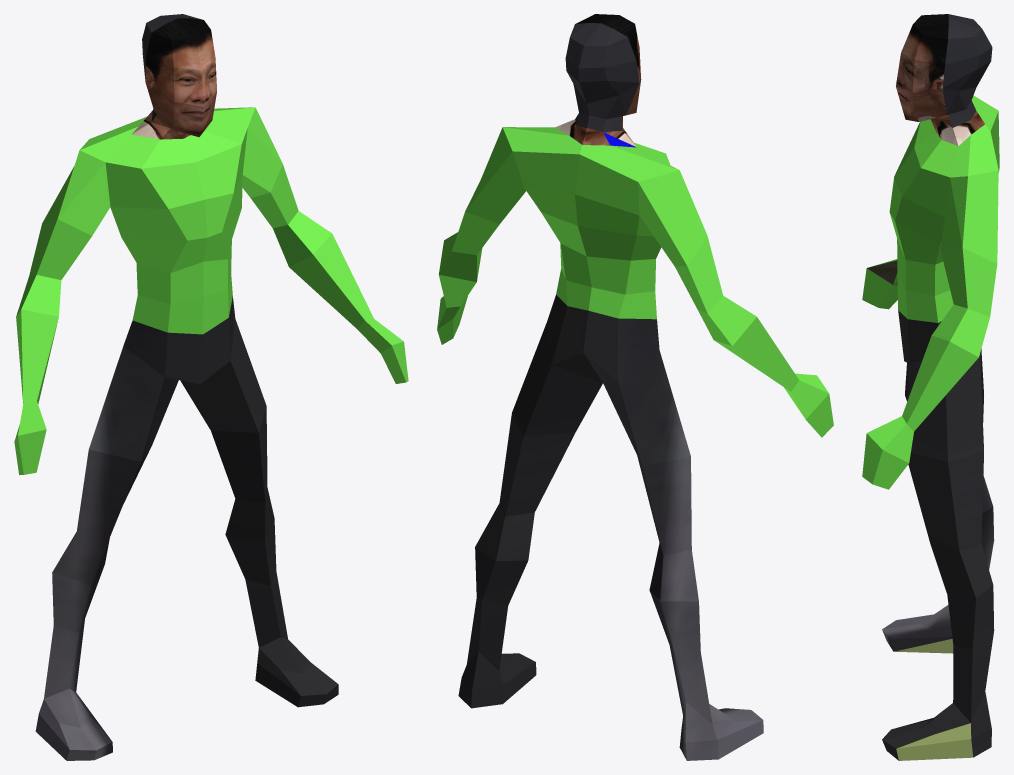
The picture shows the model from 3 angles, left to right: view 1: azimuth 30°, elevation 25°; view 2: azimuth 150°, elevation 25°; view 3: azimuth 270°, elevation 25°; orthographic projection. The views are drawn at different scales.
Parts seen in each view (by area): view 1: BASE_Low_Poly_Man_Cube.001; view 2: BASE_Low_Poly_Man_Cube.001; view 3: BASE_Low_Poly_Man_Cube.001.
Part boxes in pixels (x1=…): BASE_Low_Poly_Man_Cube.001: x1=14, y1=14, x2=408, y2=760; BASE_Low_Poly_Man_Cube.001: x1=437, y1=14, x2=833, y2=760; BASE_Low_Poly_Man_Cube.001: x1=862, y1=14, x2=999, y2=760.
Size of the model in its own units: 317 by 542 by 99.74.
